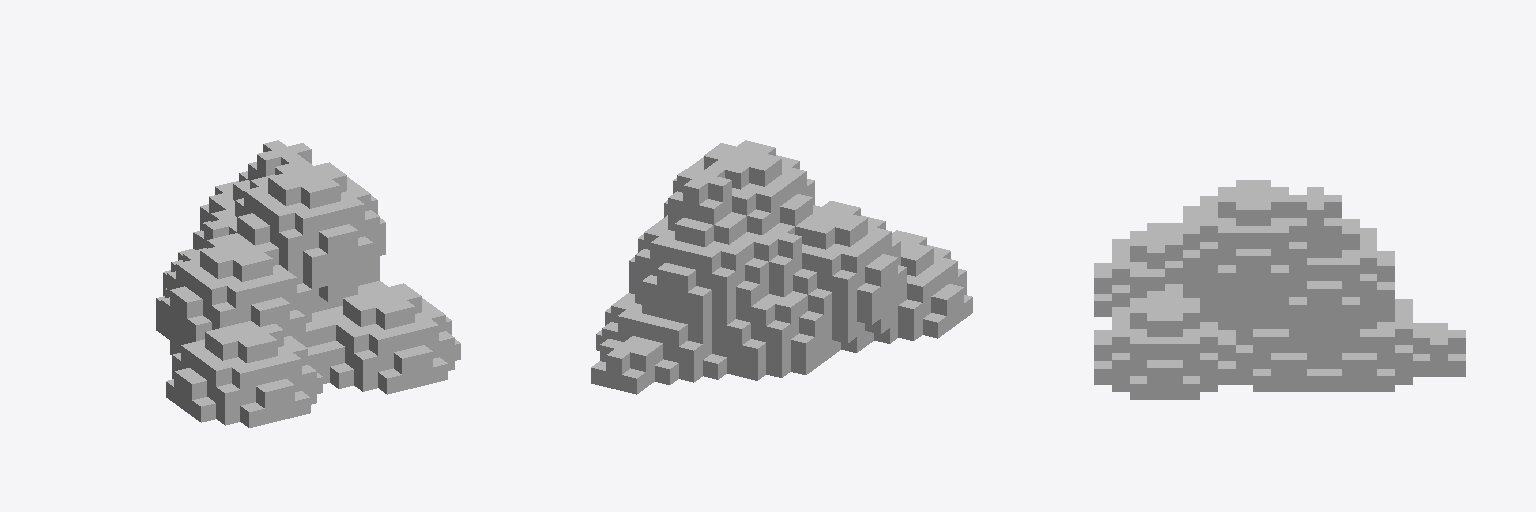
The model's file is Arbusto_01.obj.
3 views of the same model, side by side, from view 1: azimuth 30°, elevation 25°; view 2: azimuth 150°, elevation 25°; view 3: azimuth 270°, elevation 25° (orthographic).
Parts seen in each view (by area): view 1: Content; view 2: Content; view 3: Content.
Part boxes in pixels (x1,y1,x2,y2): Content: (156, 140, 460, 427); Content: (591, 140, 972, 394); Content: (1094, 180, 1465, 399).
Bounding box in the file's own units: 1.36 × 0.8 × 1.68.